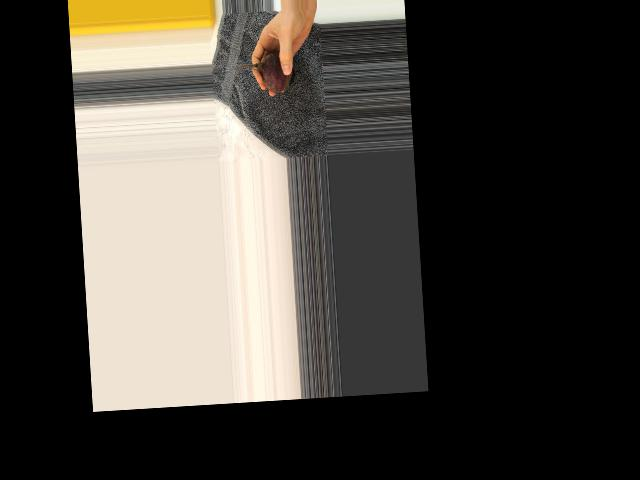beet: (233, 51, 296, 95)
